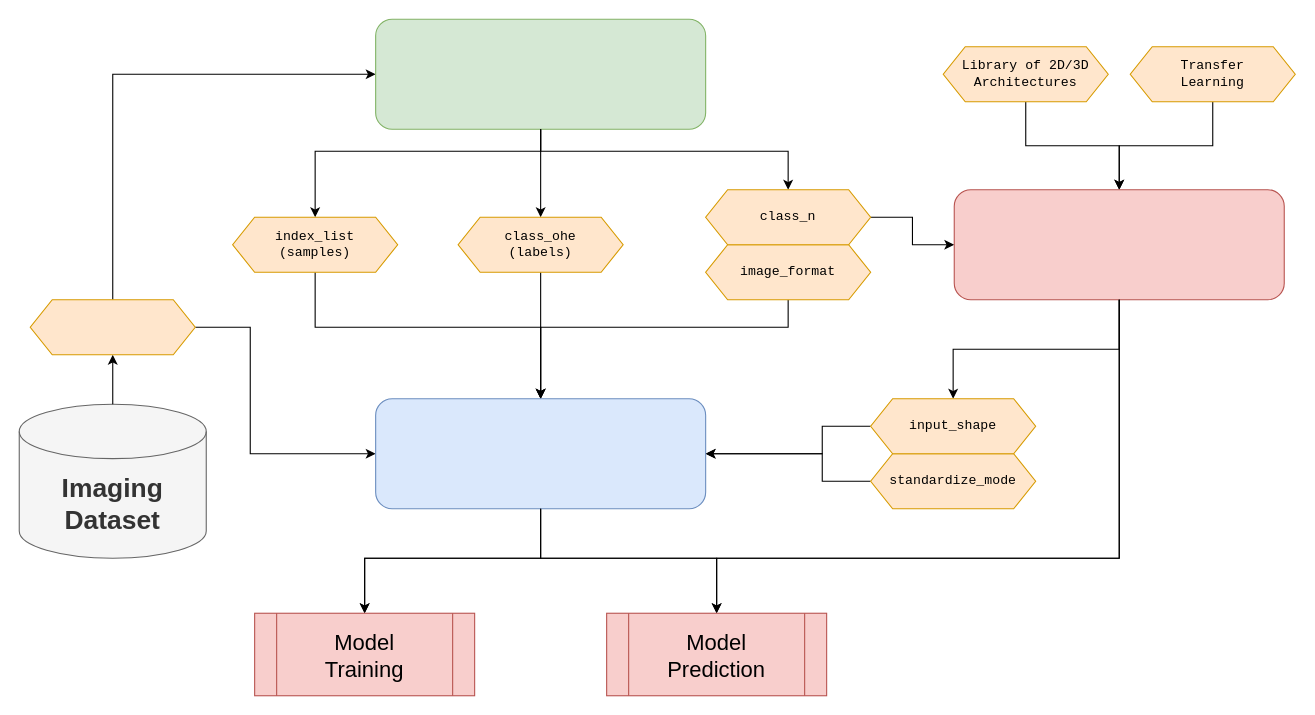
The diagram is 1315 pixels wide and 715 high, and some of its shapes have lost their labels. The box of each missing label's shape, as (x1, y1, x2, y2) in pixels:
#1 Pillar: input_interface(): (375, 18, 706, 129)
#2 Pillar: NeuralNetwork(): (953, 189, 1284, 300)
#3 Pillar: DataGenerator(): (375, 398, 706, 509)
path_imagedir: (29, 299, 195, 355)
